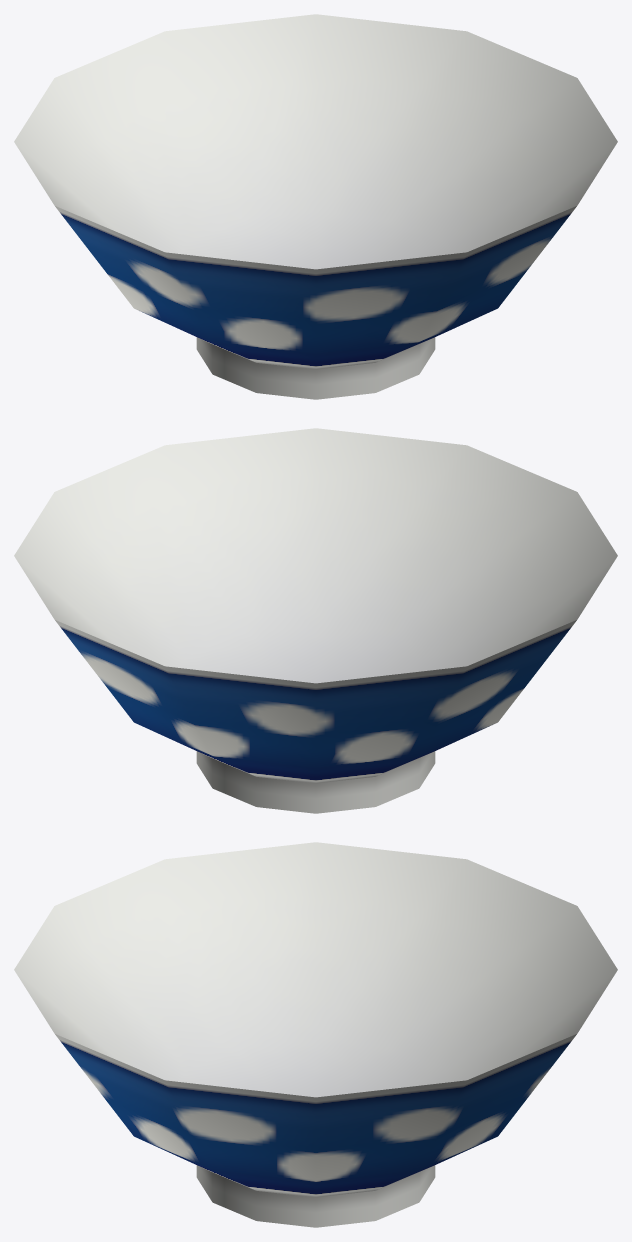
File: KR_Rice_bowl_01_01.fbx
3 renders of one model, top to bottom at view 1: azimuth 30°, elevation 25°; view 2: azimuth 150°, elevation 25°; view 3: azimuth 270°, elevation 25°, orthographic.
Visible parts, largest first — view 1: kr_rice_bowl_01_01; view 2: kr_rice_bowl_01_01; view 3: kr_rice_bowl_01_01.
Boxes of the visible parts, bbox=[...] form: kr_rice_bowl_01_01: bbox=[14, 14, 617, 399]; kr_rice_bowl_01_01: bbox=[14, 428, 617, 813]; kr_rice_bowl_01_01: bbox=[14, 842, 617, 1227].
Size of the model in its own units: 12.17 by 4.61 by 12.17.
